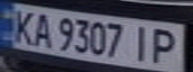0: (87, 18, 109, 56)
3: (69, 16, 90, 55)
7: (106, 20, 130, 60)
9: (51, 14, 75, 52)
A: (27, 10, 57, 47)
I: (127, 22, 157, 63)
K: (6, 7, 39, 46)
P: (145, 25, 187, 65)
